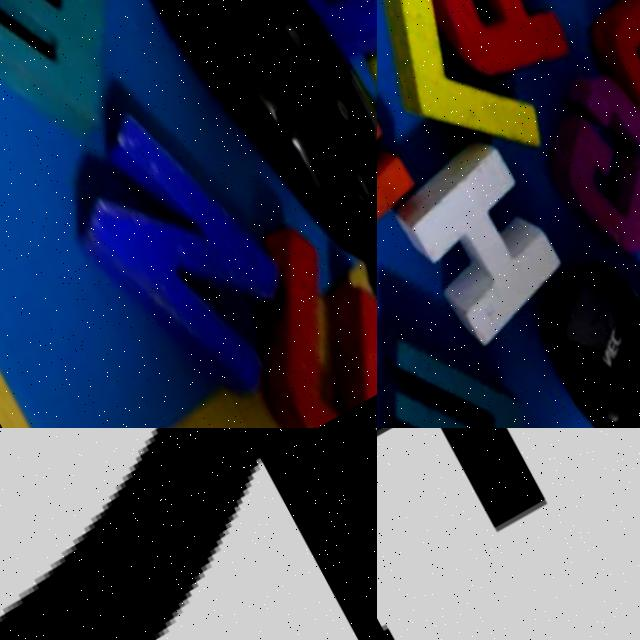7: (0, 428, 377, 640)
G: (377, 428, 640, 640), (526, 59, 640, 270)
H: (380, 131, 578, 359)
L: (377, 0, 551, 205)
M: (0, 0, 154, 185), (377, 284, 562, 428)
O: (576, 0, 640, 153)
P: (328, 233, 377, 397)
U: (186, 189, 377, 428)
W: (377, 37, 423, 278)
